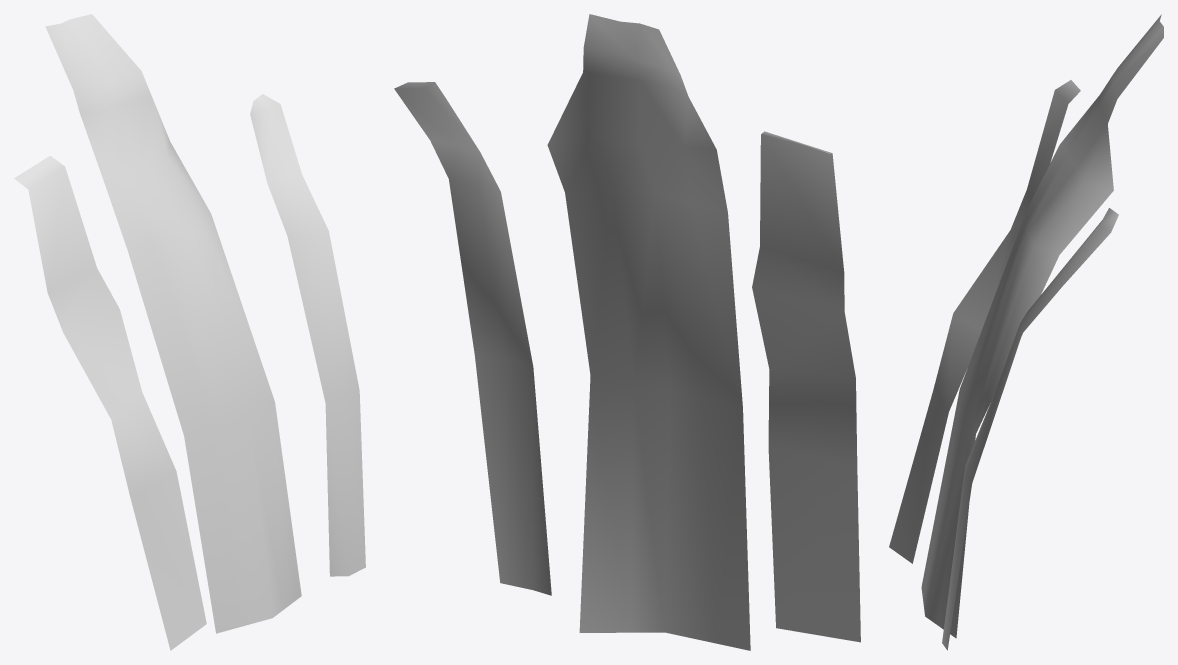
The model's file is xl_liushui_5.FBX.
The picture shows the model from 3 angles, left to right: view 1: azimuth 30°, elevation 25°; view 2: azimuth 150°, elevation 25°; view 3: azimuth 270°, elevation 25°; orthographic projection. The views are drawn at different scales.
Parts seen in each view (by area): view 1: xl_liushui_5; view 2: xl_liushui_5; view 3: xl_liushui_5.
Part boxes in pixels (x1,y1,x2,y2): xl_liushui_5: [14, 14, 365, 650]; xl_liushui_5: [394, 14, 860, 650]; xl_liushui_5: [889, 14, 1163, 650].
Bounding box in the file's own units: 6970 × 11970 × 5455.
